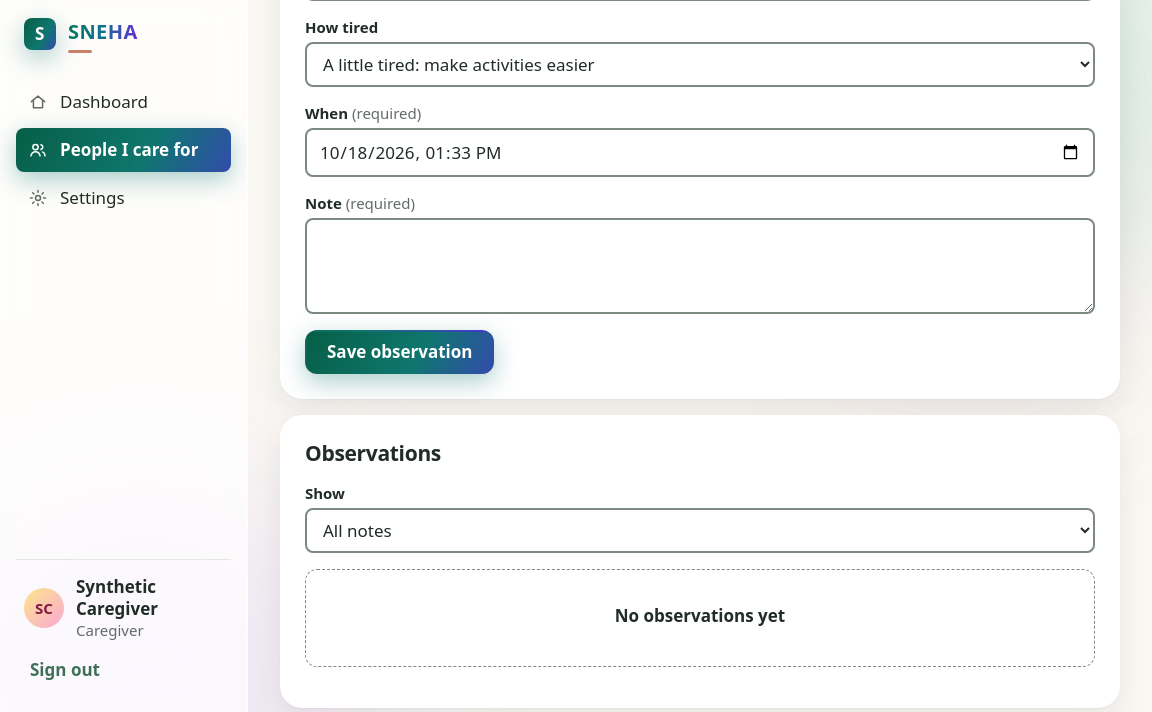
Test: caregiver observations › requires a note, then saves a tiredness observation with a timezone-aware time
(page scrolled)
Click the button "Save observation": (400, 352) top-left (305, 330), bottom-right (494, 374)
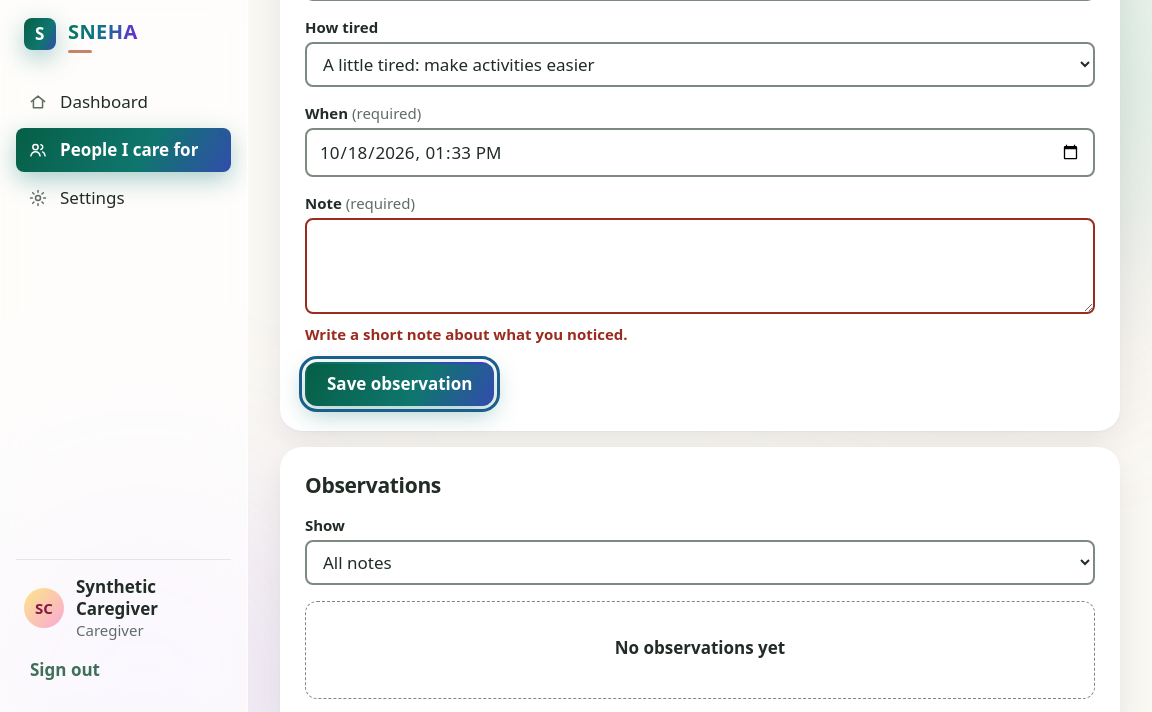
Expected: the text "Write a short note about what you noticed." is shown, top-left (305, 324), bottom-right (628, 344)
In the text box labelled "Note (required)": (700, 266) top-left (305, 218), bottom-right (1095, 314), type "Tired after lunch, rested for an hour"
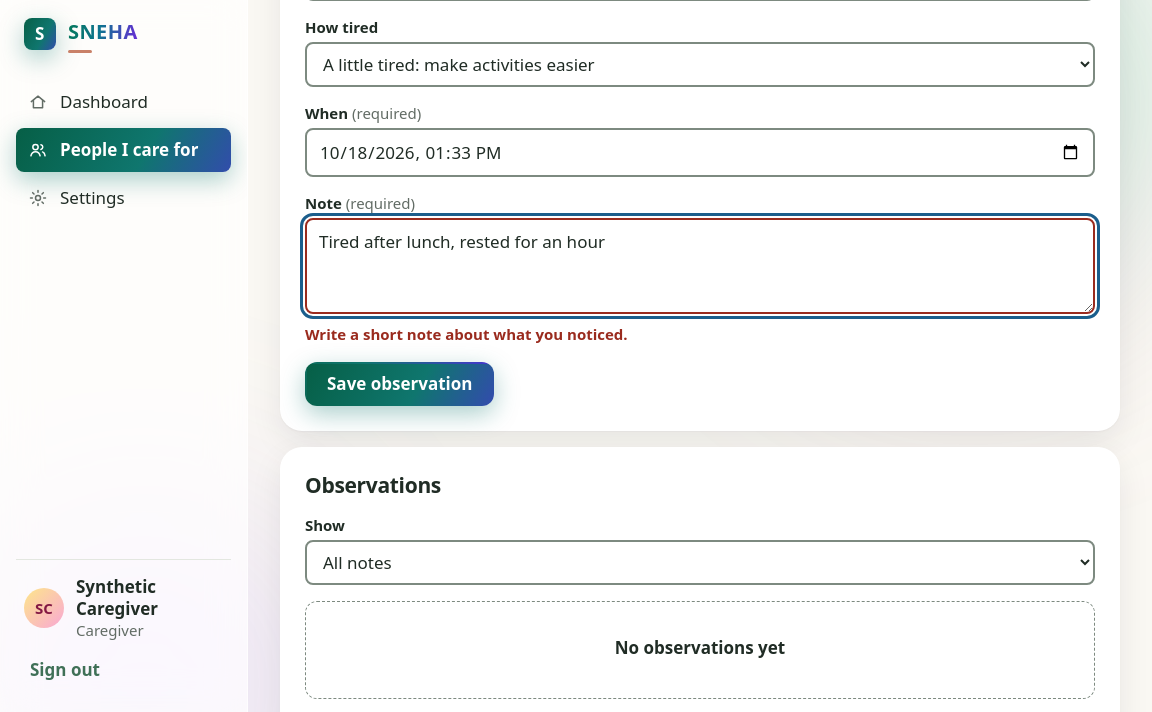
Click the button "Save observation": (400, 384) top-left (305, 362), bottom-right (494, 406)
(page scrolled)
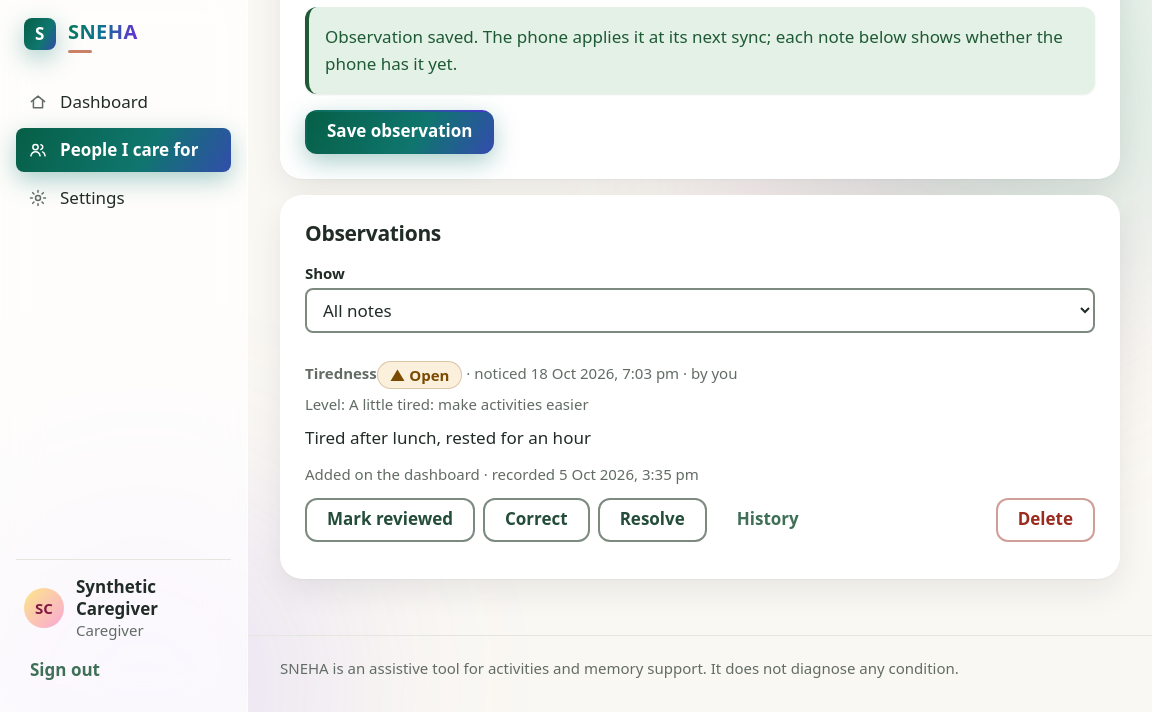
Expected: the text "Observation saved." is shown, top-left (325, 25), bottom-right (1063, 75)
Expected: the text "Tired after lunch, rested for an hour" is shown, top-left (305, 426), bottom-right (591, 449)
